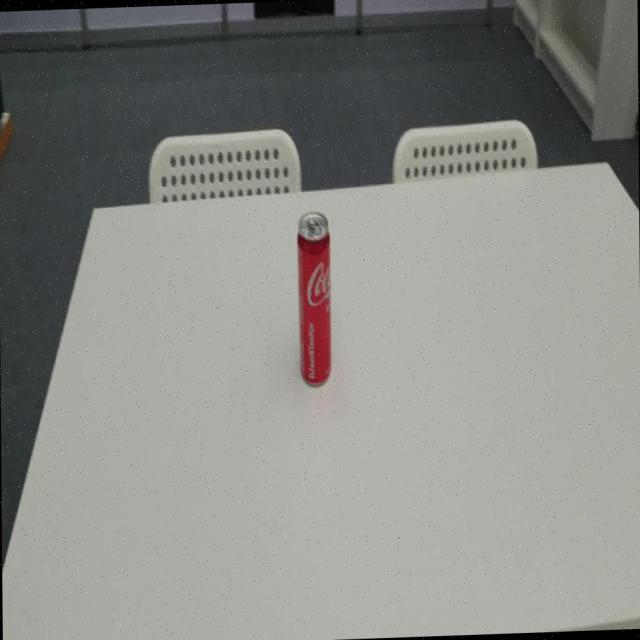coca-cola: (296, 209, 332, 392)
